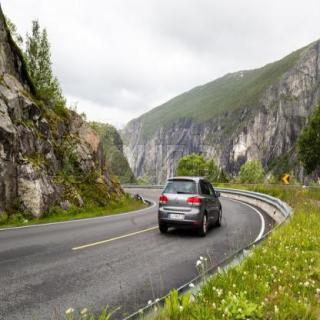Normal_vehicle: (158, 178, 220, 236)
